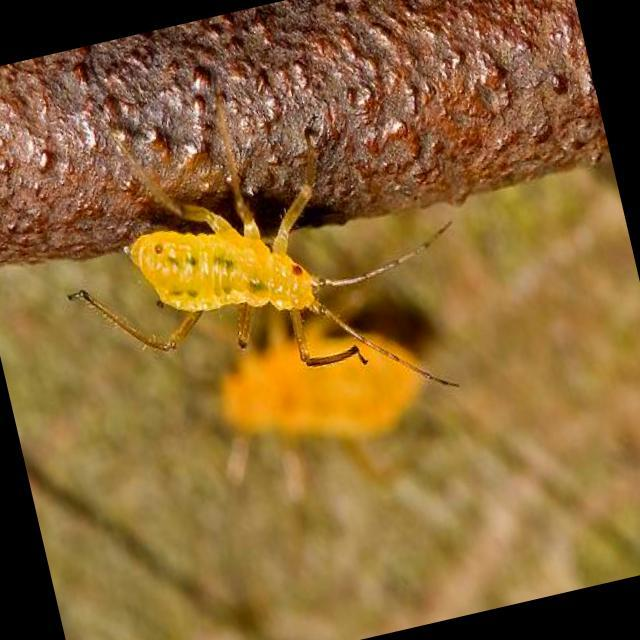aphid: (41, 95, 450, 414)
